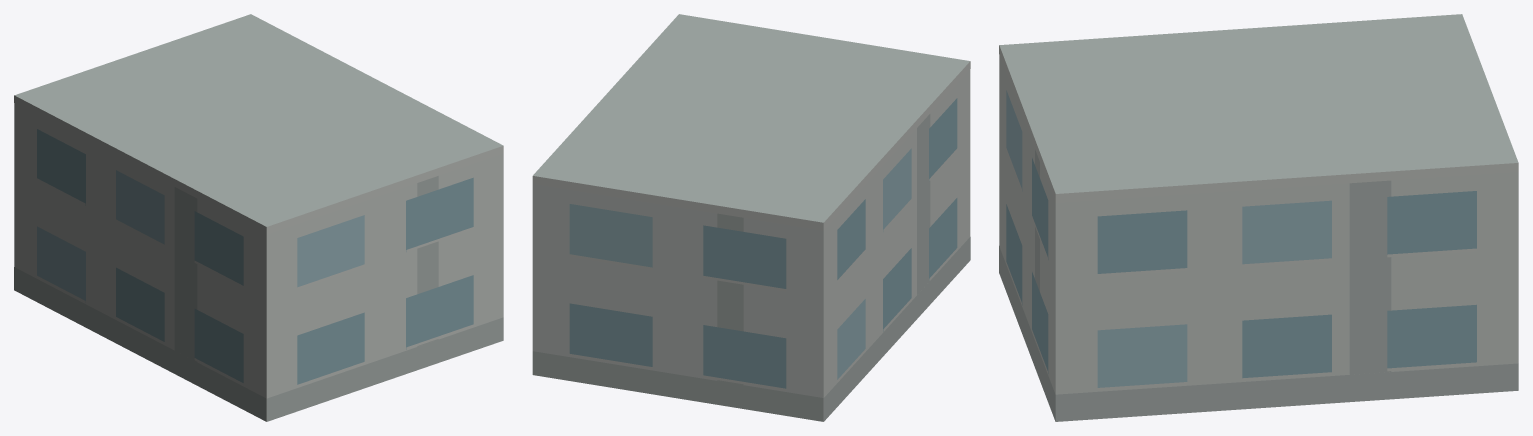
File: residential-3af5d5ab-8344-4902-8a0f-d2ba8fb56e12.glb
3 renders of one model, left to right at view 1: azimuth 30°, elevation 25°; view 2: azimuth 150°, elevation 25°; view 3: azimuth 270°, elevation 25°, orthographic. The views are drawn at different scales.
Visible parts, largest first — view 1: residential-3af5d5ab-8344-4902-8a0f-d2ba8fb56e12.tmp; view 2: residential-3af5d5ab-8344-4902-8a0f-d2ba8fb56e12.tmp; view 3: residential-3af5d5ab-8344-4902-8a0f-d2ba8fb56e12.tmp.
Boxes of the visible parts, left/top/right/bottom form: residential-3af5d5ab-8344-4902-8a0f-d2ba8fb56e12.tmp: left=14, top=14, right=503, bottom=421; residential-3af5d5ab-8344-4902-8a0f-d2ba8fb56e12.tmp: left=532, top=14, right=970, bottom=421; residential-3af5d5ab-8344-4902-8a0f-d2ba8fb56e12.tmp: left=999, top=14, right=1518, bottom=421.
Size of the model in its own units: 10.34 by 6.1 by 12.61.
